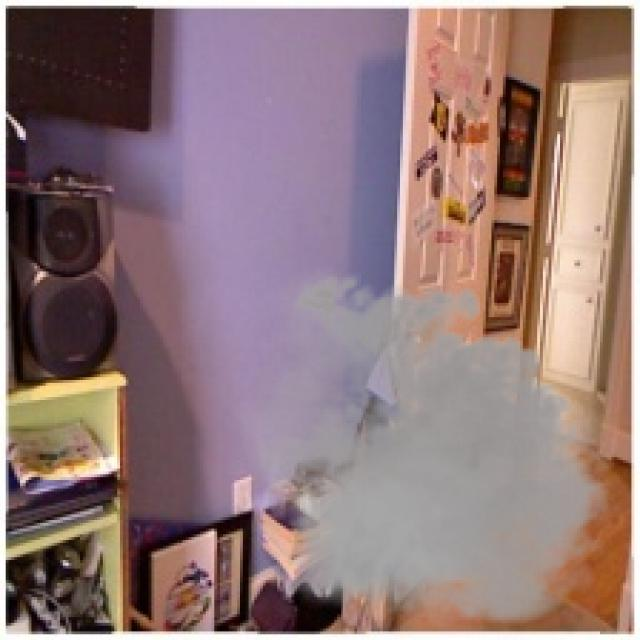smoke: (231, 263, 623, 637)
